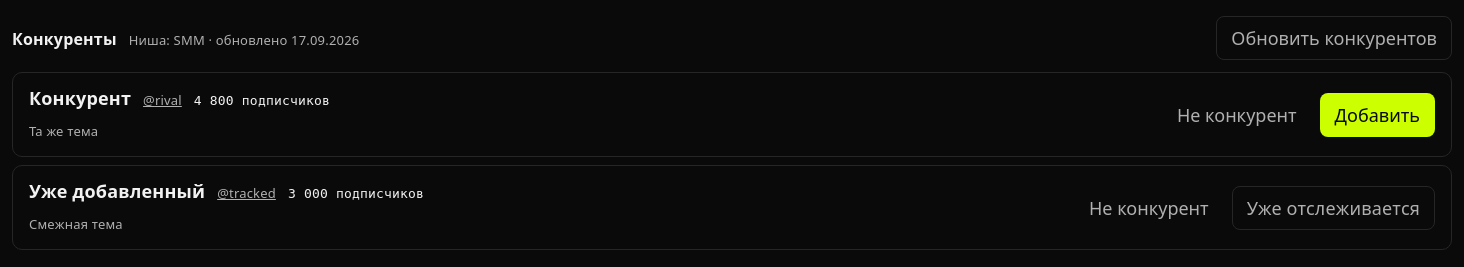
it: CompetitorsSection › «Не конкурент» › brings the channel back on «Отменить»
Click the button "Не конкурент" in the row of "rival" at (1237, 115), box [1162,93,1312,137]
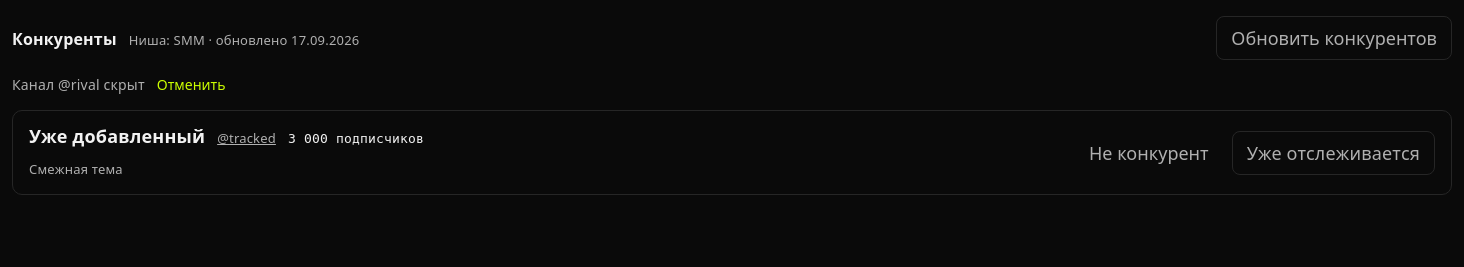
Click the button "Отменить" at (191, 85), box [157,72,226,98]
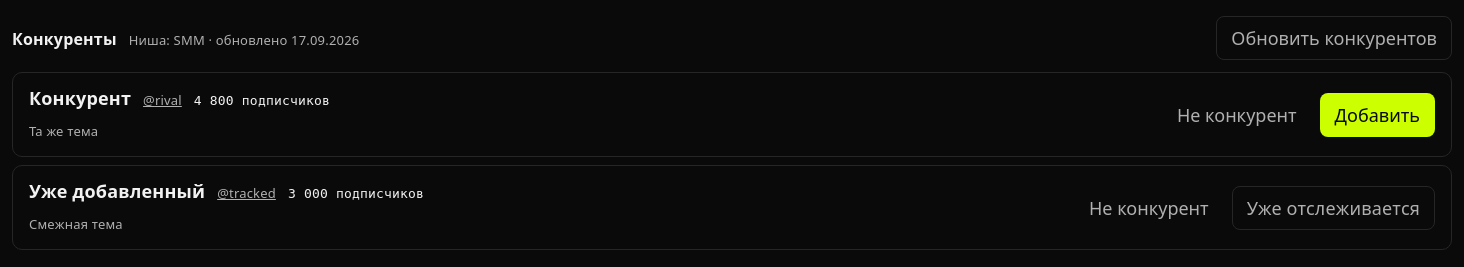
Check: the text "Конкурент" is shown, box [29,85,131,111]
Check: the button "Отменить" is gone
